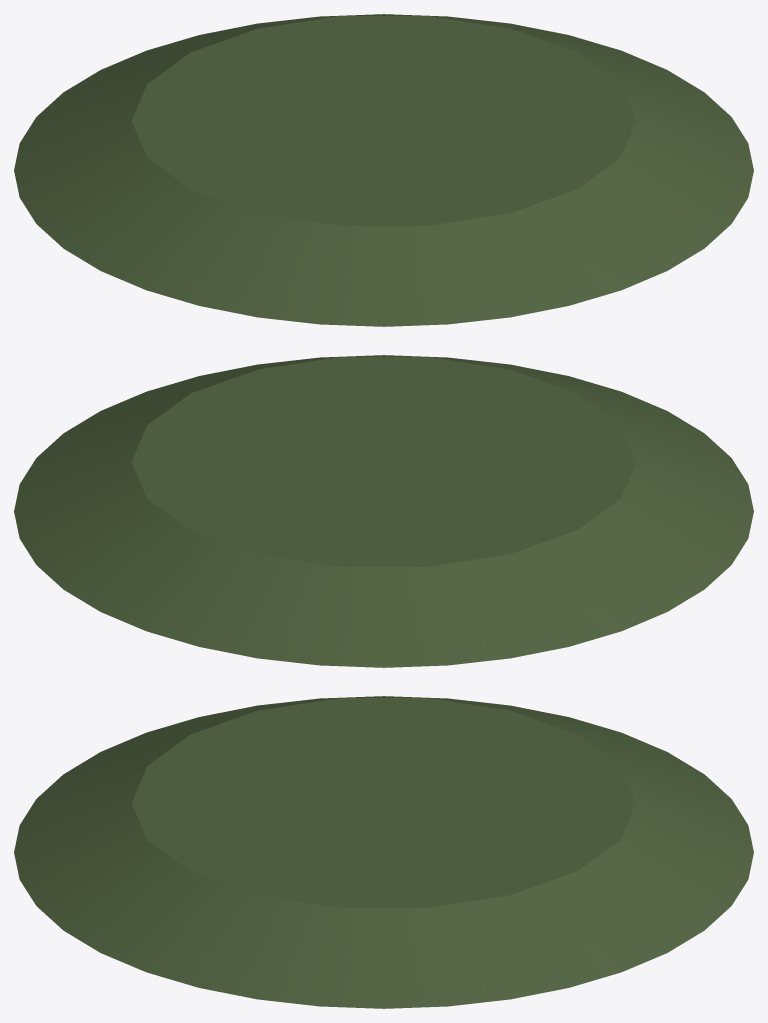
Rendered from root-mound.medium.glb.
3 views of the same model, one above another, from view 1: azimuth 30°, elevation 25°; view 2: azimuth 150°, elevation 25°; view 3: azimuth 270°, elevation 25° (orthographic).
Parts seen in each view (by area): view 1: Root Mound; view 2: Root Mound; view 3: Root Mound.
Part boxes in pixels (left/top/right/bottom): Root Mound: left=14, top=14, right=753, bottom=326; Root Mound: left=14, top=355, right=753, bottom=667; Root Mound: left=14, top=696, right=753, bottom=1008.
Bounding box in the file's own units: 176 × 13 × 176.
